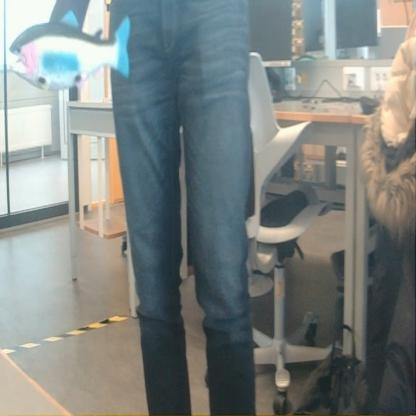rubberfish: (7, 5, 136, 93)
